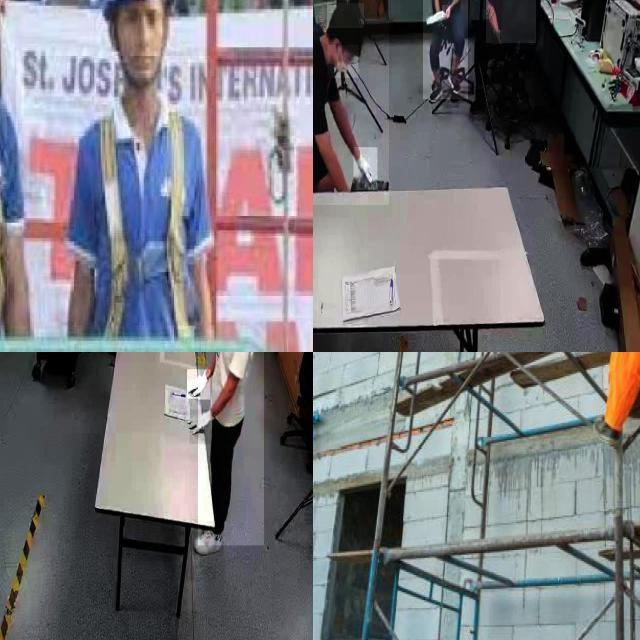Harness: (91, 103, 200, 343)
face_mask: (328, 45, 358, 78)
hand_glove: (354, 147, 378, 191), (190, 409, 216, 445), (187, 370, 211, 400)
hand_noglove: (492, 28, 502, 45), (442, 5, 451, 18)
head_nohelmet: (327, 3, 365, 29)
person: (313, 0, 389, 206), (197, 352, 264, 546), (423, 0, 468, 100), (485, 0, 536, 44)
shoes: (194, 525, 224, 559), (446, 64, 462, 98), (427, 80, 447, 106)
